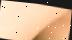plaque psoriasis: (1, 0, 12, 5)
